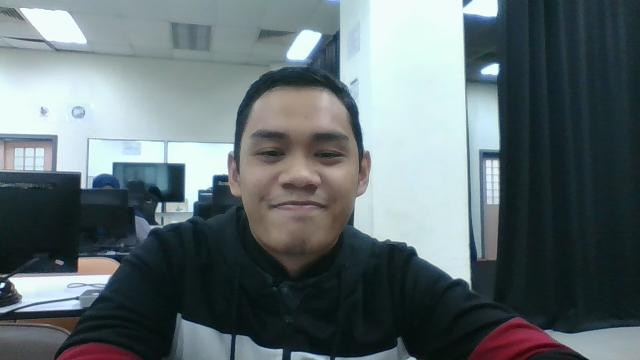senang: (235, 72, 367, 256)
